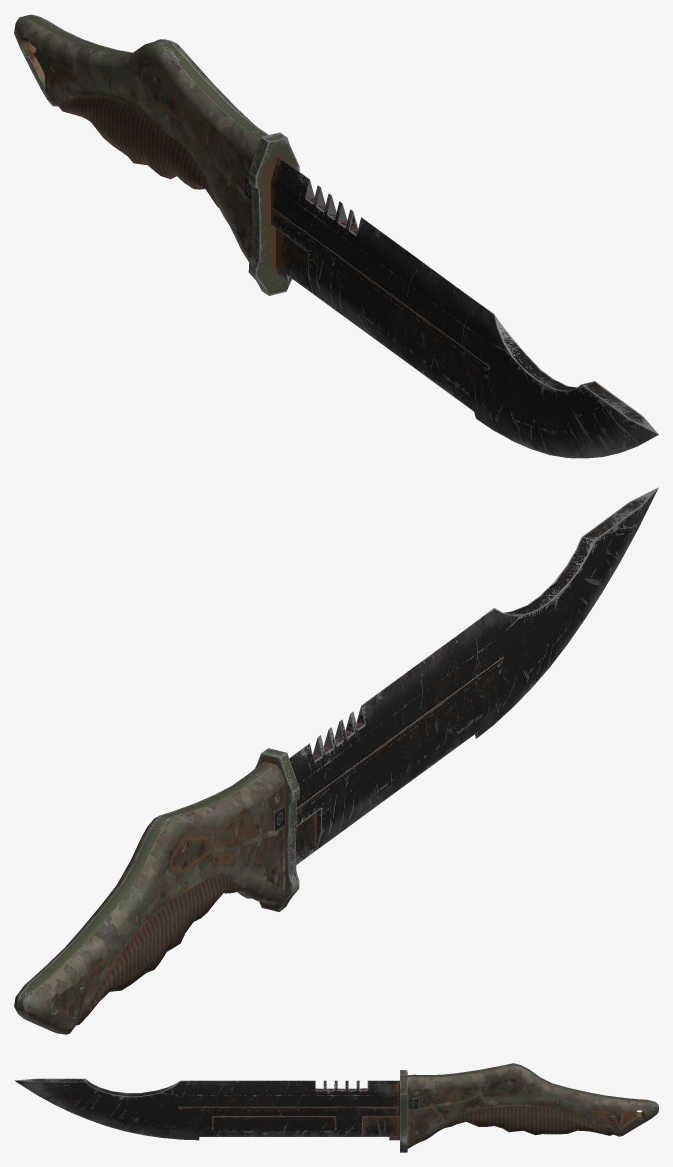
The model's file is knife_low_poly.glb.
The picture shows the model from 3 angles, top to bottom: view 1: azimuth 30°, elevation 25°; view 2: azimuth 150°, elevation 25°; view 3: azimuth 270°, elevation 25°; orthographic projection. The views are drawn at different scales.
Parts seen in each view (by area): view 1: PM3D_knife_retopo:knifew_low_0; view 2: PM3D_knife_retopo:knifew_low_0; view 3: PM3D_knife_retopo:knifew_low_0.
Boxes of the visible parts, bbox=[...] form: PM3D_knife_retopo:knifew_low_0: bbox=[14, 14, 658, 458]; PM3D_knife_retopo:knifew_low_0: bbox=[14, 487, 658, 1034]; PM3D_knife_retopo:knifew_low_0: bbox=[14, 1063, 658, 1152].
Size of the model in its own units: 0.00221 by 0.00816 by 0.0554.
Materials: 1 (1 with a texture image).
